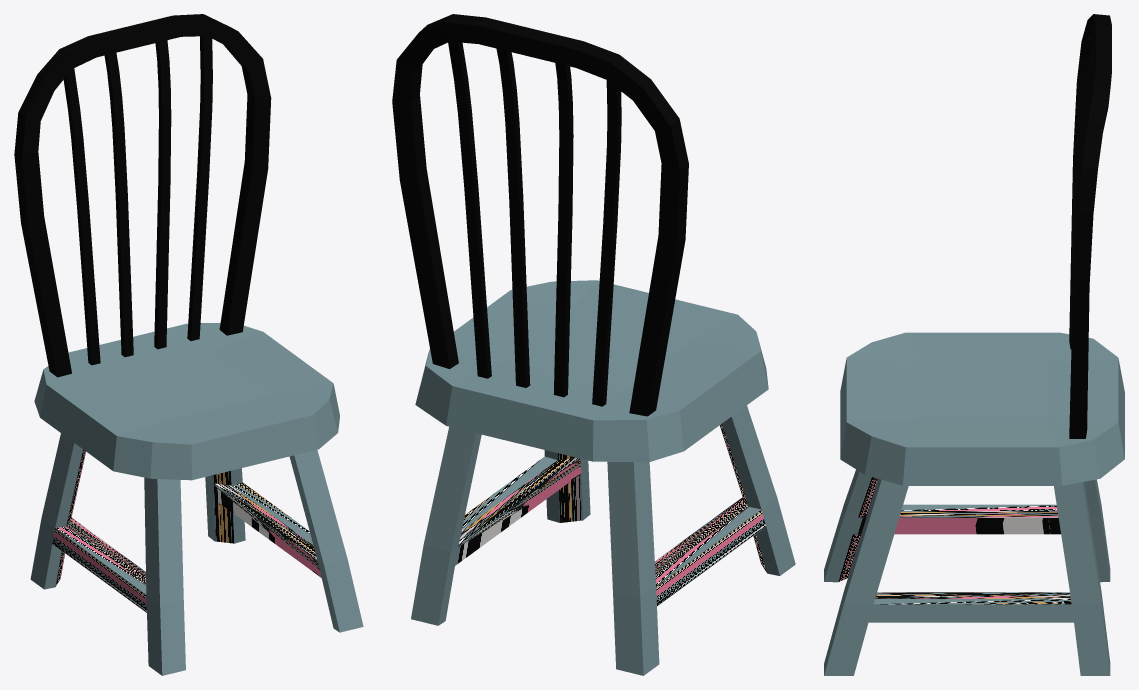
The model's file is Small_Chair.fbx.
3 views of the same model, side by side, from view 1: azimuth 30°, elevation 25°; view 2: azimuth 150°, elevation 25°; view 3: azimuth 270°, elevation 25° (orthographic). The views are drawn at different scales.
Parts seen in each view (by area): view 1: Small_Chair; view 2: Small_Chair; view 3: Small_Chair.
Boxes of the visible parts, <box> form: Small_Chair: <box>14,14,363,675</box>; Small_Chair: <box>392,14,795,675</box>; Small_Chair: <box>824,14,1124,675</box>.
Bounding box in the file's own units: 45.33 × 92.2 × 43.61.
